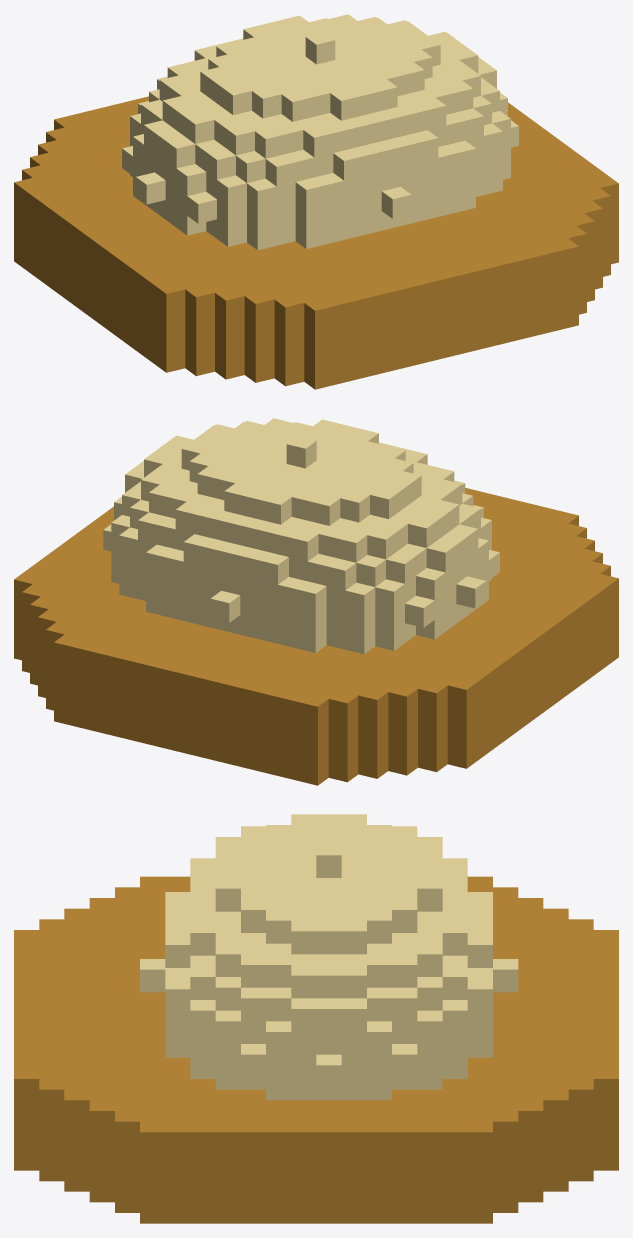
Rendered from voxel_32_50022.glb.
3 views of the same model, one above another, from view 1: azimuth 30°, elevation 25°; view 2: azimuth 150°, elevation 25°; view 3: azimuth 270°, elevation 25° (orthographic). The views are drawn at different scales.
Parts seen in each view (by area): view 1: prop_50022; view 2: prop_50022; view 3: prop_50022.
Part boxes in pixels (left/top/right/bottom): prop_50022: left=14, top=14, right=618, bottom=389; prop_50022: left=14, top=418, right=618, bottom=785; prop_50022: left=14, top=814, right=618, bottom=1223.
Bounding box in the file's own units: 0.6225 × 0.2853 × 0.6225.
